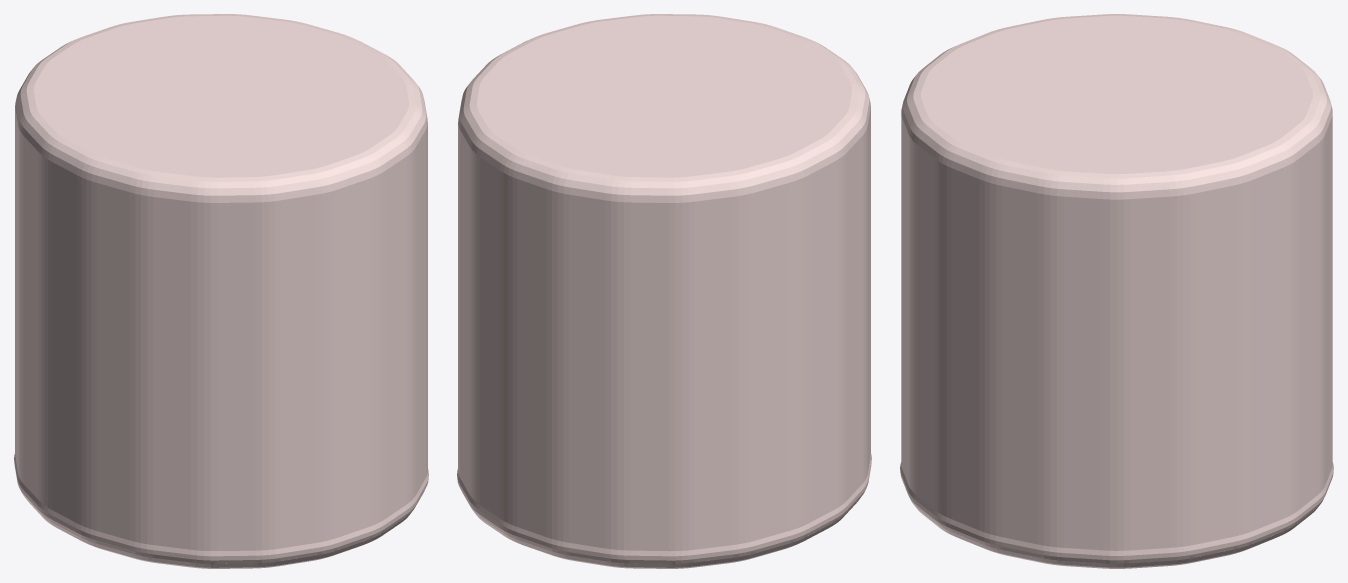
Rendered from TarroSolo2.obj.
3 renders of one model, left to right at view 1: azimuth 30°, elevation 25°; view 2: azimuth 150°, elevation 25°; view 3: azimuth 270°, elevation 25°, orthographic.
Visible parts, largest first — view 1: CajaR:TarroSolo2:pCylinder1; view 2: CajaR:TarroSolo2:pCylinder1; view 3: CajaR:TarroSolo2:pCylinder1.
Part boxes in pixels (x1,y1,x2,y2): CajaR:TarroSolo2:pCylinder1: [14, 14, 428, 568]; CajaR:TarroSolo2:pCylinder1: [457, 14, 871, 568]; CajaR:TarroSolo2:pCylinder1: [900, 14, 1333, 568].
Bounding box in the file's own units: 0.2569 × 0.2687 × 0.2688.
1 material, 1 textured.
